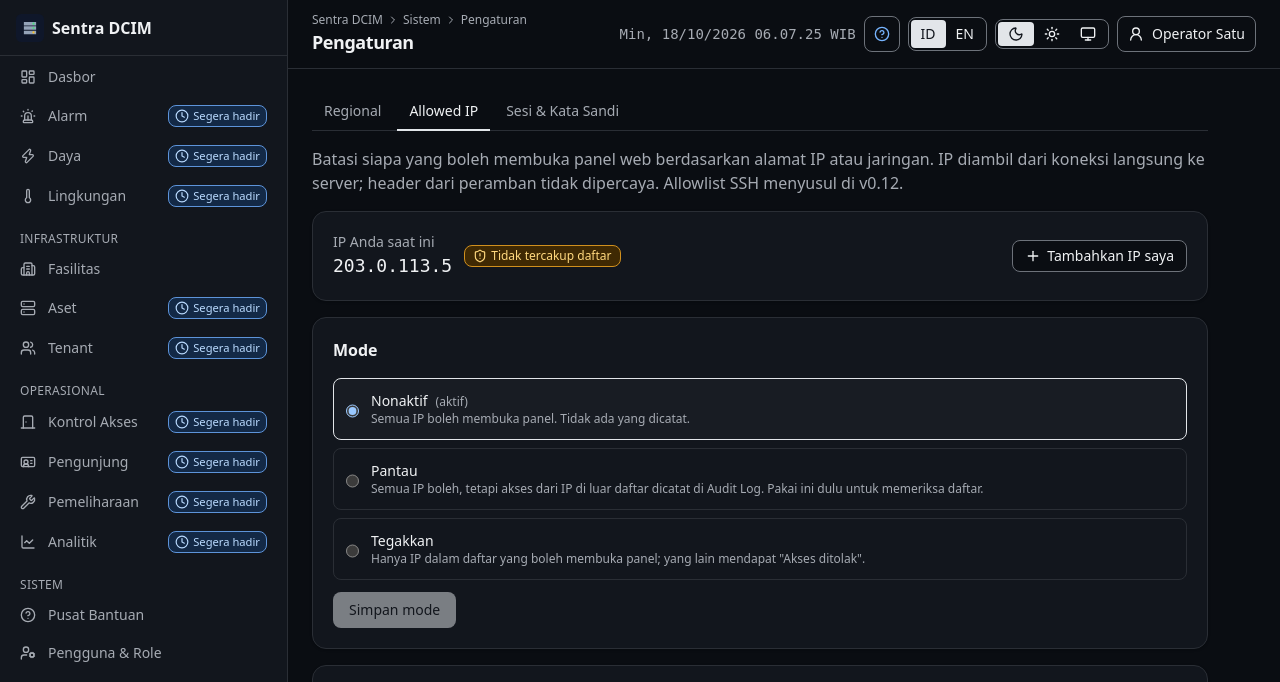
it: settings › allowed IP › shows the current IP, guards enforce until it is listed, then asks for confirmation
This screenshot has width=1280, height=682.
(page scrolled)
Expected: the element with test id "allowlist-your-ip" shows "203.0.113.5", [333,255,452,276]
Click the radio button with test id "allowlist-mode-enforce" at x=352, y=551, box [346,535,359,567]
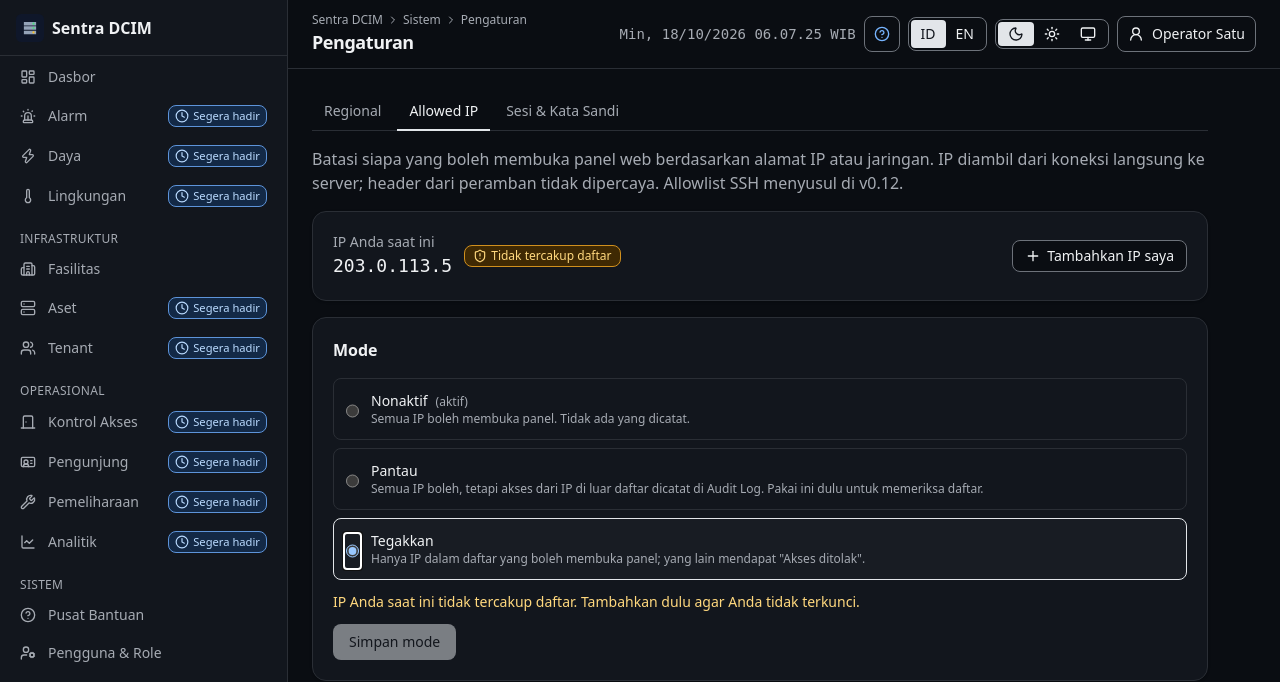
Expected: the button with test id "allowlist-mode-save" is disabled, [333,624,456,660]
Now the message with test id "allowlist-guard" reads "IP Anda saat ini tidak tercakup daftar. Tambahkan dulu agar Anda tidak terkunci.", box [333,592,860,611]
Click the button with test id "allowlist-add-mine" at x=1100, y=256, box [1012,240,1187,272]
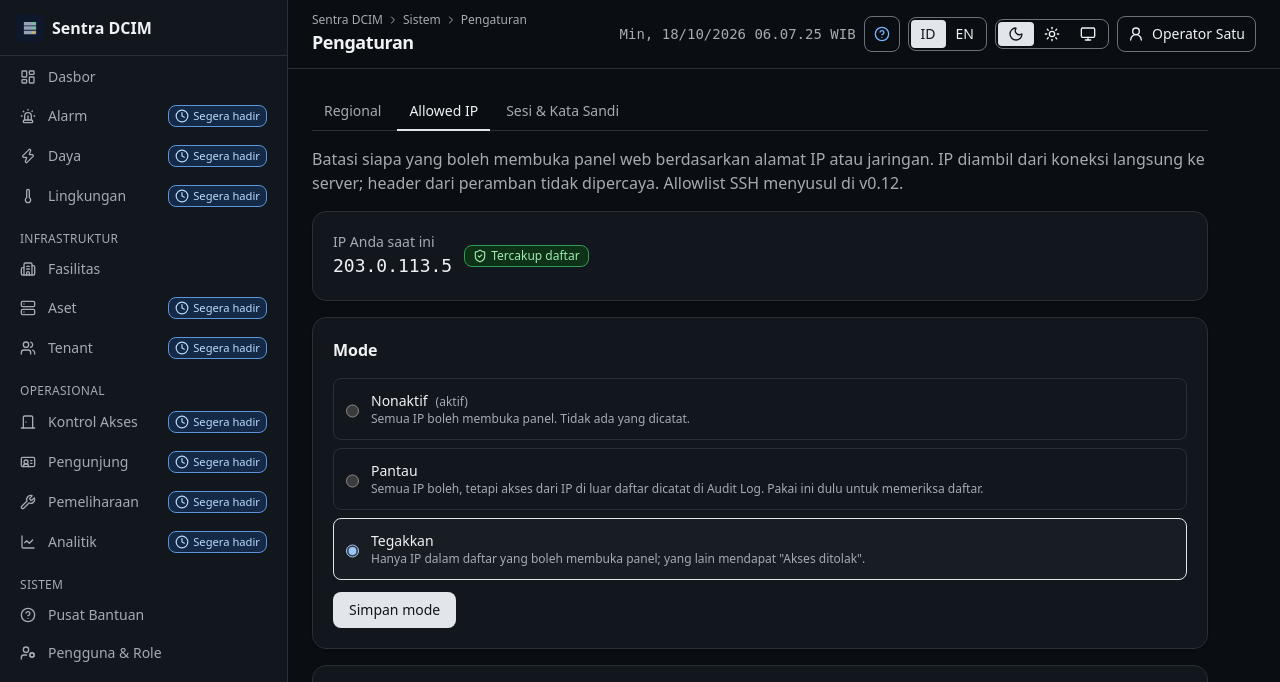
Now the element with test id "allowlist-your-ip" has attribute data-covered="true", box [312,211,1208,301]
Click the radio button with test id "allowlist-mode-enforce" at x=352, y=551, box [346,535,359,567]
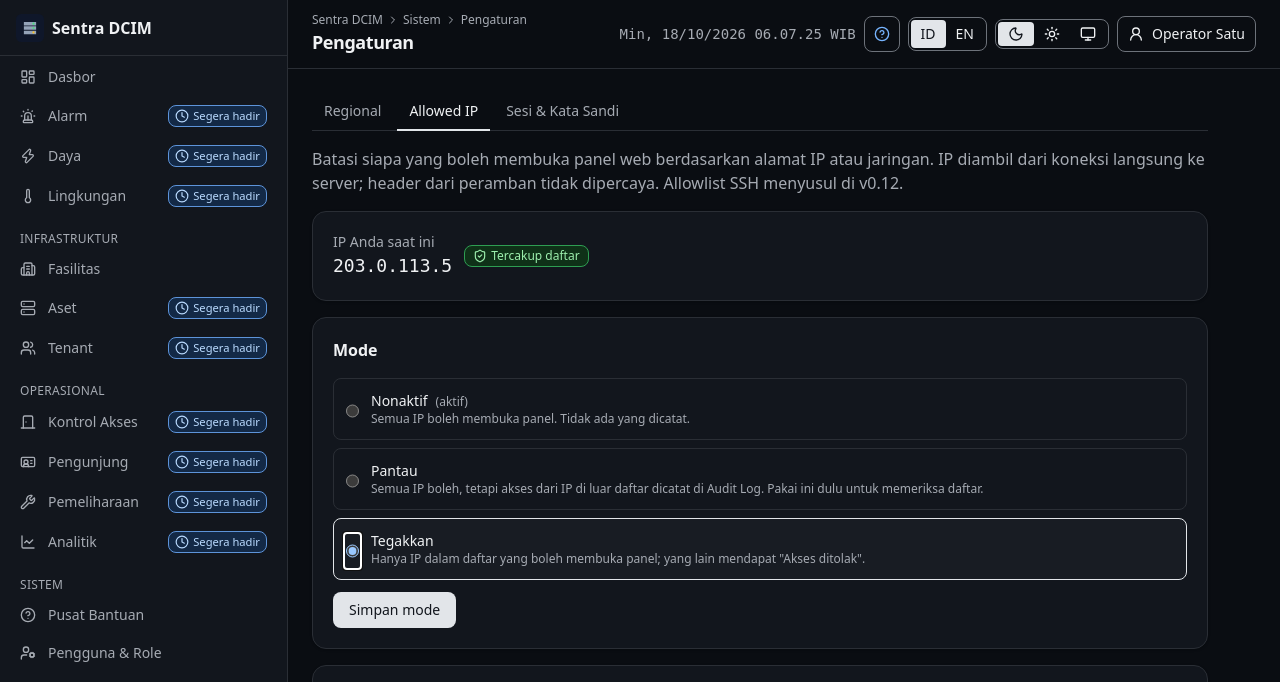
Click the button with test id "allowlist-mode-save" at x=395, y=610, box [333,592,456,628]
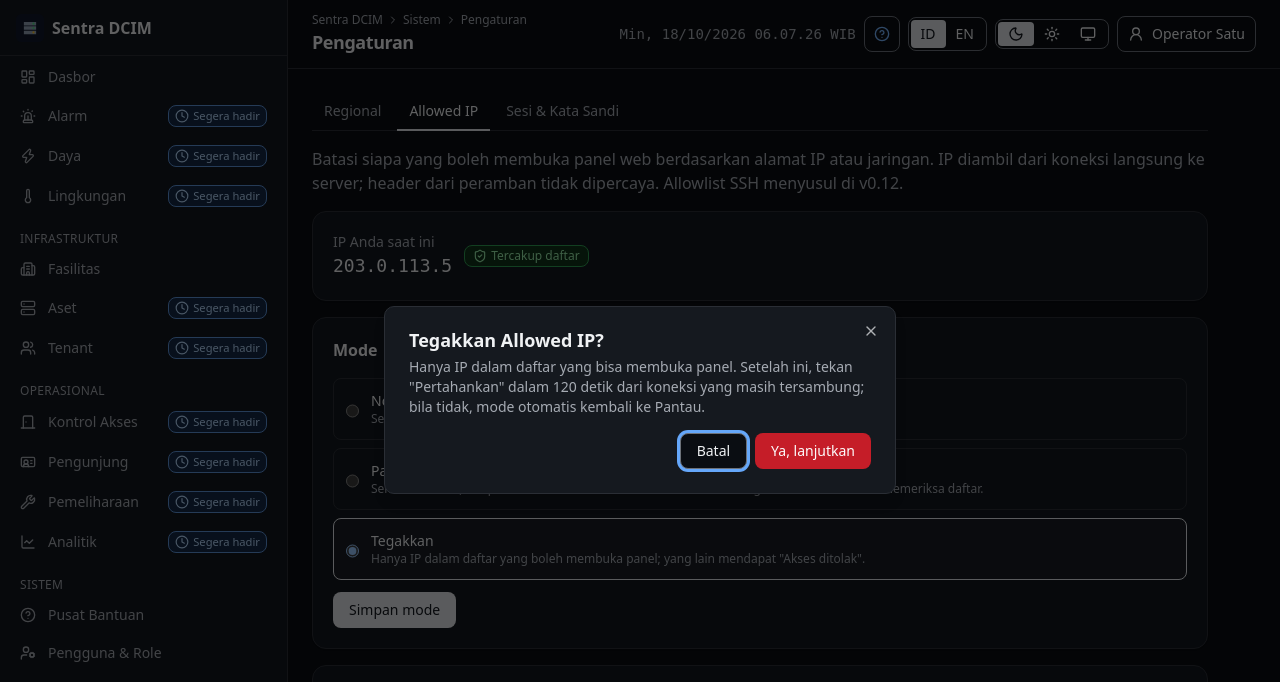
Now the dialog with test id "confirm-dialog" shows "120 detik", box [409,357,864,416]
Click the button with test id "confirm" at x=813, y=451, box [755,433,871,469]
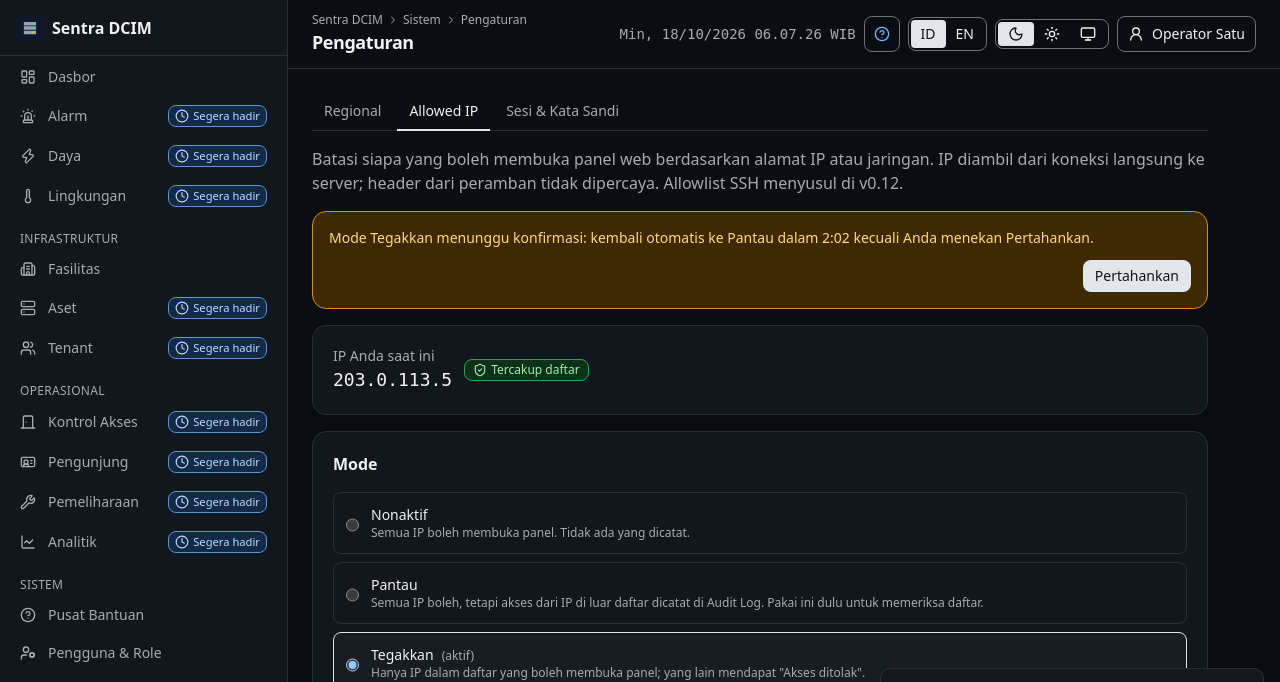
Click the button with test id "allowlist-keep" at x=1137, y=276, box [1083,260,1191,292]
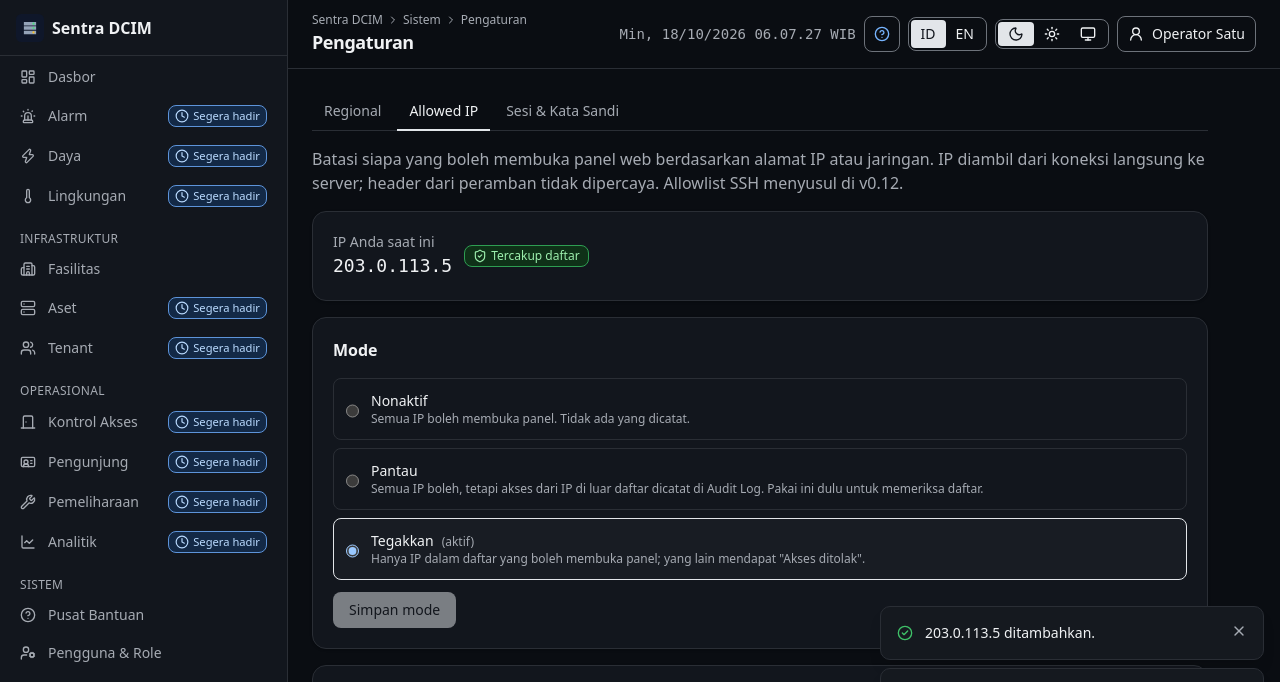
Now the message with test id "allowlist-pending" is gone
